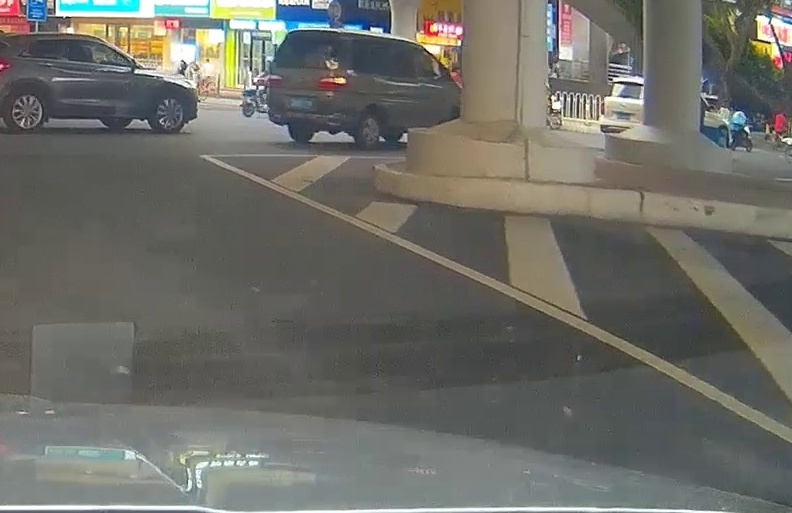L_light: (267, 75, 281, 85)
R_light: (319, 77, 346, 88)
T_light: (309, 31, 322, 36)
day-right: (266, 28, 349, 150)
